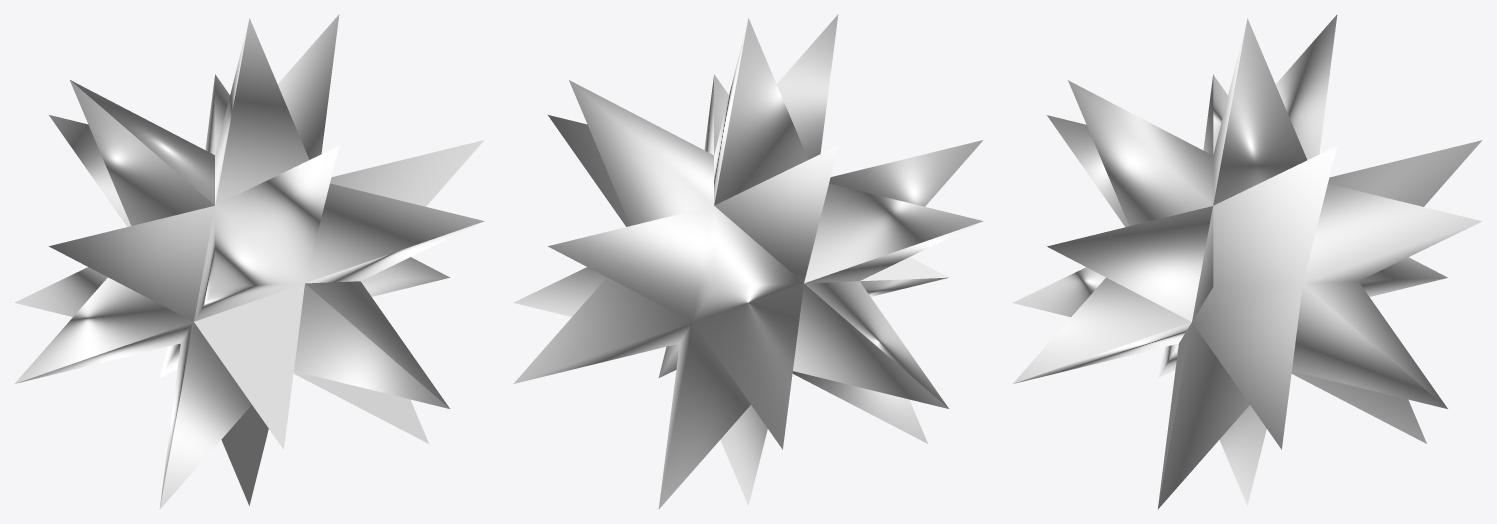
The model's file is great-stellated-dodecahedron.gltf.
The picture shows the model from 3 angles, left to right: view 1: azimuth 30°, elevation 25°; view 2: azimuth 150°, elevation 25°; view 3: azimuth 270°, elevation 25°; orthographic projection.
Visible parts, largest first — view 1: Mesh; view 2: Mesh; view 3: Mesh.
Boxes of the visible parts, left/top/right/bottom form: Mesh: left=14, top=14, right=484, bottom=509; Mesh: left=513, top=14, right=983, bottom=509; Mesh: left=1013, top=14, right=1482, bottom=509.
Size of the model in its own units: 5.24 by 5.61 by 4.89.
1 material, 1 textured.
